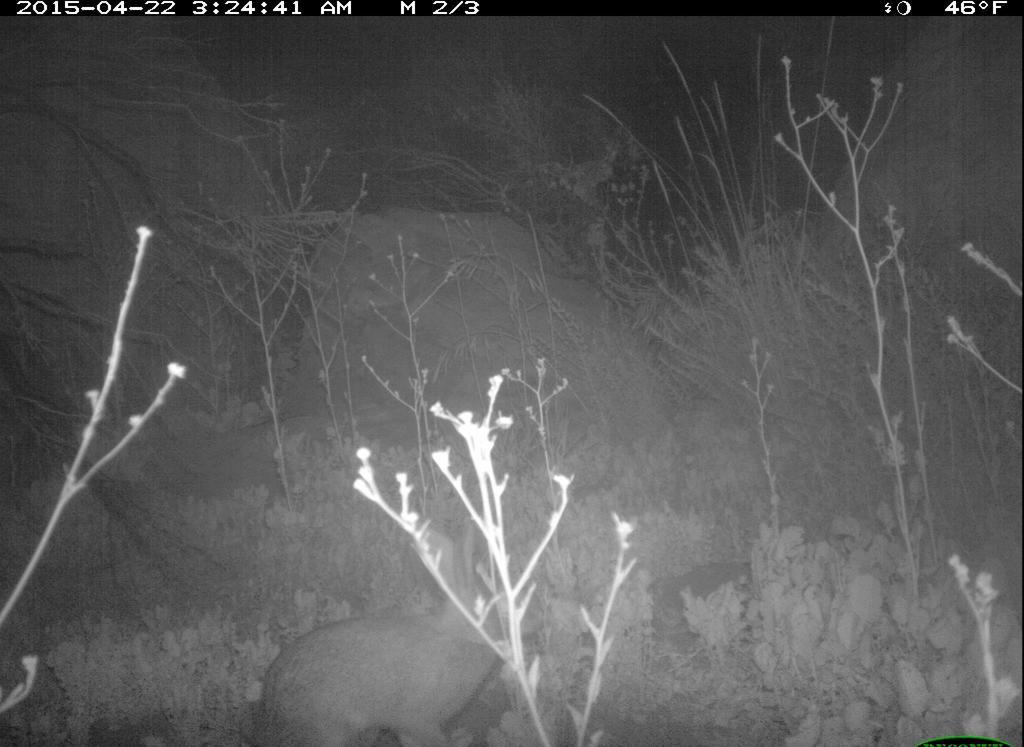rabbit: (249, 516, 525, 747)
